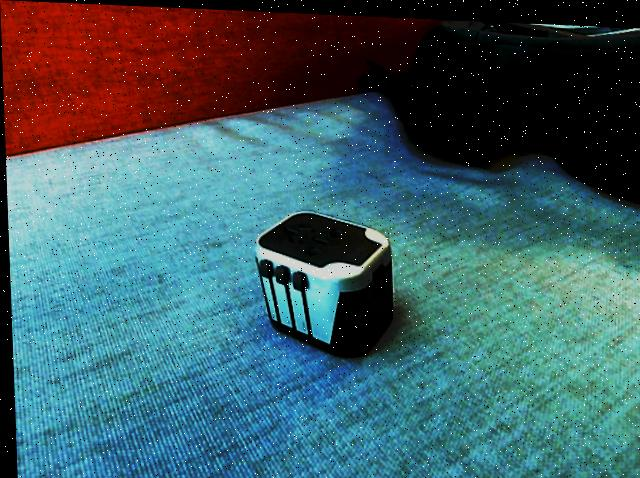adapter: (250, 205, 393, 357)
